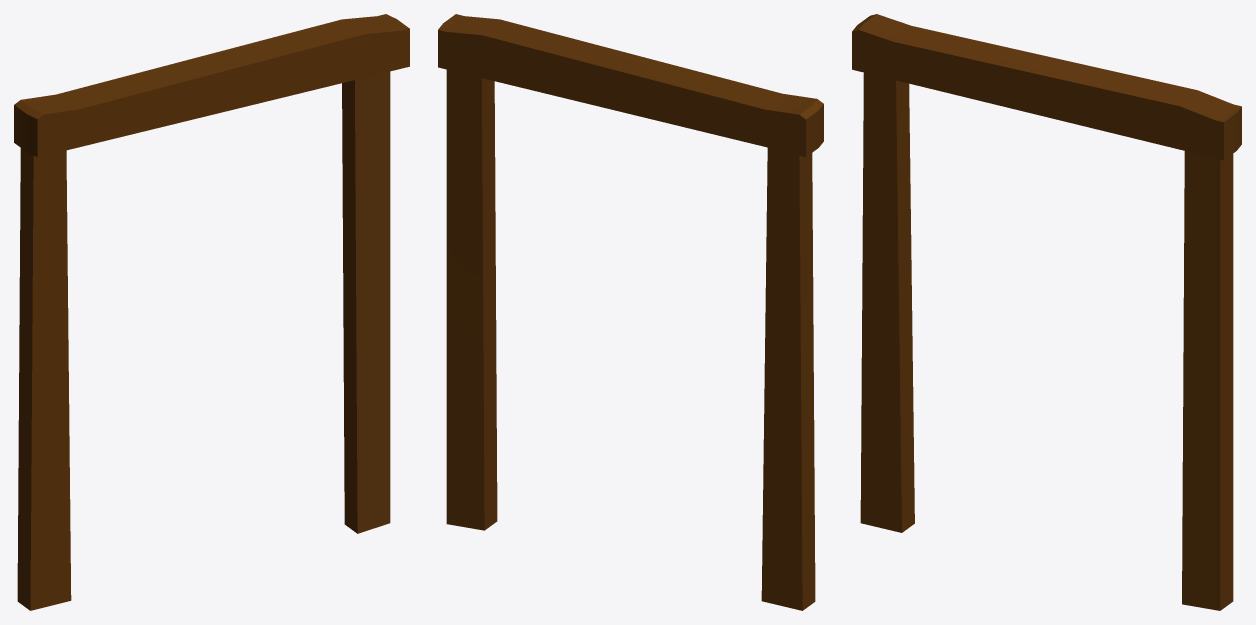
Rendered from Tuerrahmen.fbx.
3 renders of one model, left to right at view 1: azimuth 30°, elevation 25°; view 2: azimuth 150°, elevation 25°; view 3: azimuth 330°, elevation 25°, orthographic.
Visible parts, largest first — view 1: Türrahmen; view 2: Türrahmen; view 3: Türrahmen.
Part boxes in pixels (x1,y1,x2,y2): Türrahmen: (14,14,409,610); Türrahmen: (438,14,823,610); Türrahmen: (852,14,1241,610).
Bounding box in the file's own units: 158 × 202 × 15.46.
